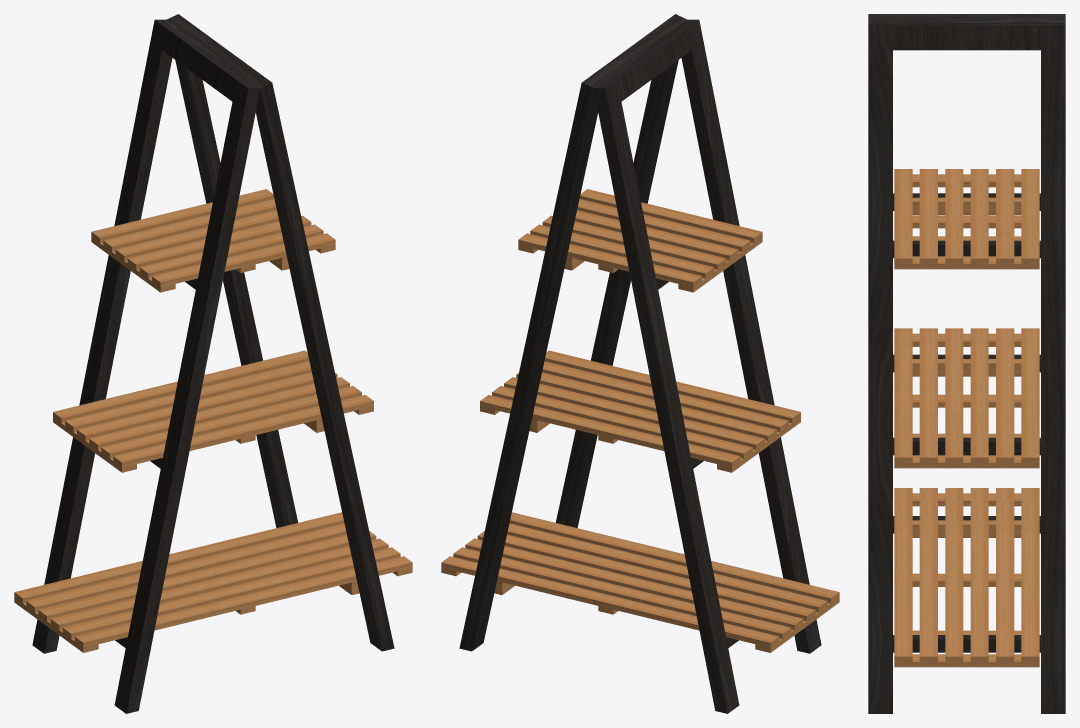
Rendered from mw-treeshelf.fbx.
3 renders of one model, left to right at view 1: azimuth 30°, elevation 25°; view 2: azimuth 150°, elevation 25°; view 3: azimuth 270°, elevation 25°, orthographic. The views are drawn at different scales.
Visible parts, largest first — view 1: mw-treeshelf; view 2: mw-treeshelf; view 3: mw-treeshelf.
Boxes of the visible parts, left/top/right/bottom form: mw-treeshelf: left=14, top=14, right=412, bottom=713; mw-treeshelf: left=441, top=14, right=839, bottom=713; mw-treeshelf: left=868, top=14, right=1065, bottom=713.
Bounding box in the file's own units: 81 × 140 × 40.
Materials: 2 (2 with a texture image).
